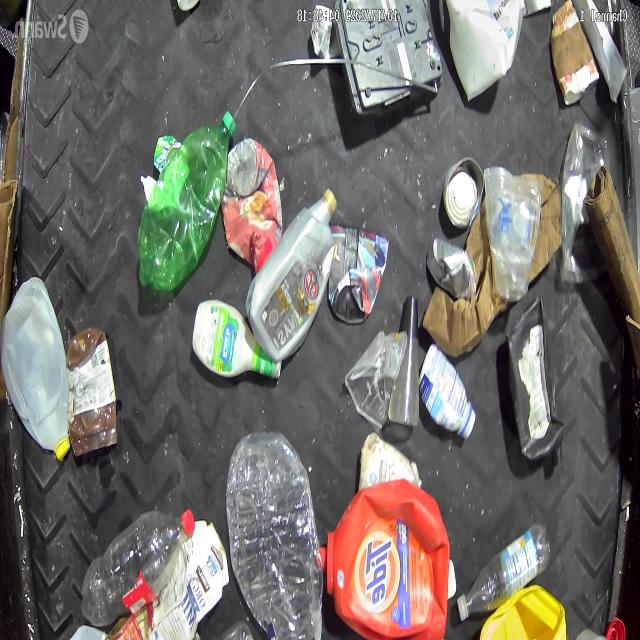can: (442, 154, 484, 232), (425, 238, 474, 299)
milk_jug: (2, 275, 68, 455)
non_white_jug: (325, 482, 451, 640), (245, 187, 338, 363), (504, 295, 564, 467)
plastic_bottle: (221, 425, 325, 640), (134, 108, 240, 295), (80, 506, 194, 618), (456, 522, 552, 622)
